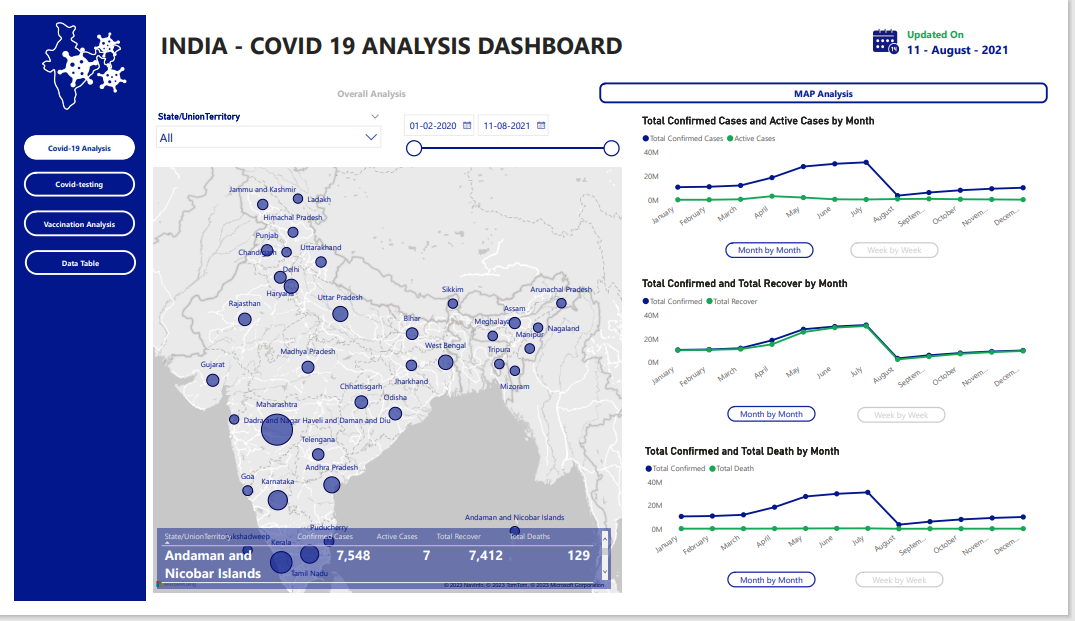

The dashboard page shown, as its layout file describes it:
{"tool":"powerbi","page":{"name":"CovidHomeDemo1","canvas":[1664,936],"ordinal":0},"visuals":[{"type":"shape","box":[0,0,211.1,936.5],"z":0},{"type":"image","box":[57.8,13.2,135.7,126],"z":0,"group":"g1"},{"type":"actionButton","title":"confim-Active","box":[1164.2,370,141.4,25.7],"z":0,"group":"g5"},{"type":"actionButton","title":"ConfirmW-active","box":[1364.3,370,141.4,25.7],"z":0,"group":"g4"},{"type":"actionButton","title":"Death-Active","box":[1171,634.3,141.4,25.7],"z":0,"group":"g2"},{"type":"actionButton","title":"DeathW-Inactive","box":[1371,634.3,141.4,25.7],"z":0,"group":"g7"},{"type":"actionButton","title":"Recovery-Active","box":[1181.1,896.6,141.4,25.7],"z":0,"group":"g3"},{"type":"actionButton","title":"RecoveryW-Inactive","box":[1381.2,896.6,141.4,25.7],"z":0,"group":"g6"},{"type":"image","box":[24.6,3.3,167.4,155.7],"z":1000,"group":"g1"},{"type":"shape","box":[218,0,1436.1,90.2],"z":4000},{"type":"shape","box":[217.1,135.7,825.7,335.7],"z":6000},{"type":"shape","box":[1055.7,135.7,598.6,271.4],"z":7000},{"type":"shape","box":[1056.2,415.6,598.4,251.6],"z":8000},{"type":"shape","box":[1057,675,597,255],"z":9000},{"type":"shape","box":[218,483,824,453],"z":10000},{"type":"actionButton","box":[15.9,192.1,177.8,39.7],"z":11000},{"type":"actionButton","box":[15.9,250.8,177.8,39.7],"z":12000},{"type":"actionButton","box":[15.9,312.7,177.8,41.3],"z":13000},{"type":"textbox","box":[229.5,11.5,882,67.2],"z":14000},{"type":"card","fields":{"Values":["calculation.TotalConfirmed_LastUpdate"]},"box":[242.2,164.1,243.8,104.7],"z":15000},{"type":"card","fields":{"Values":["calculation.ActiveCases*"]},"box":[527,168.3,215.9,103.2],"z":16000},{"type":"card","fields":{"Values":["calculation.TotalDeath_LatestDate_State"]},"box":[762.8,168.4,254.3,111.2],"z":17000},{"type":"card","fields":{"Values":["calculation.Mortality Rate*"]},"box":[503.2,331.7,254,103.2],"z":18000},{"type":"card","fields":{"Values":["calculation.TotalRecover_LastUpdate"]},"box":[237.7,332.8,254.1,104.9],"z":19000},{"type":"card","fields":{"Values":["calculation.Recovery Rate"]},"box":[762,331,254,104],"z":20000},{"type":"actionButton","title":"M-Inactive","box":[936.5,96.8,717.5,33.3],"z":20375},{"type":"actionButton","title":"O-Active","box":[219,96.8,706.3,33.3],"z":20500},{"type":"barChart","title":"Top 5 state with highest Deaths","fields":{"Category":["covid_19_india.State/UnionTerritory"],"Y":["Sum(covid_19_india.Deaths)"]},"box":[660.7,723,382,206.6],"z":21000},{"type":"barChart","title":"Top 5 state with highest Recovery","fields":{"Category":["covid_19_india.State/UnionTerritory"],"Y":["calculation.TotalRecover_LastUpdate"]},"box":[665.6,495.1,377,206.6],"z":22000},{"type":"barChart","title":"Top 5 state with highest Confirmed Cases","fields":{"Category":["covid_19_india.State/UnionTerritory"],"Y":["calculation.TotalConfirmed_LastUpdate"]},"box":[229,495,372,207],"z":23000},{"type":"clusteredBarChart","title":"Top 5 state with highest Active Cases","fields":{"Category":["covid_19_india.State/UnionTerritory"],"Y":["calculation.ActiveCases*"]},"box":[229,729,372,201],"z":24000},{"type":"areaChart","fields":{"Category":["covid_19_india.Date.Variation.Date Hierarchy.Year","covid_19_india.Date.Variation.Date Hierarchy.Month"],"Y":["calculation.TotalConfirmed_LastUpdate"]},"box":[1065.7,147.1,580,202.9],"z":25000},{"type":"areaChart","fields":{"Category":["covid_19_india.Date.Variation.Date Hierarchy.Year","covid_19_india.Date.Variation.Date Hierarchy.Month"],"Y":["calculation.TotalRecover_LastUpdate"]},"box":[1069.5,686.5,576.9,206.6],"z":26000},{"type":"areaChart","fields":{"Category":["covid_19_india.Date.Variation.Date Hierarchy.Year","covid_19_india.Date.Variation.Date Hierarchy.Month"],"Y":["calculation.TotalDeath_LatestDate_State"]},"box":[1068.8,426.6,578.1,196.9],"z":27000},{"type":"actionButton","box":[17.5,376.2,177.8,39.7],"z":31000},{"type":"shape","box":[217.5,136.5,12.7,336.5],"z":32000},{"type":"shape","box":[457.1,155.6,93.7,300],"z":33000},{"type":"shape","box":[715.9,152.4,93.7,300],"z":34000},{"type":"shape","box":[572.1,511.5,93.4,183.6],"z":35000},{"type":"shape","box":[570.5,739.3,93.4,183.6],"z":36000},{"type":"image","box":[1377,14.8,50.8,57.4],"z":37000},{"type":"group","id":"g1","title":"Group 1","box":[24.6,3.3,167.2,155.7],"z":38000},{"type":"group","id":"g2","title":"Caovidbtn-deatn","box":[1171,634.1,141.6,25.9],"z":40000},{"type":"group","id":"g3","title":"recoverBtn-Active","box":[1180.7,896.3,141.8,26],"z":41000},{"type":"group","id":"g4","title":"ComfirmbtnW-Active","box":[1363.5,370,142.2,25.7],"z":42000},{"type":"group","id":"g5","title":"covidActive-confirmed","box":[1162.2,370,143.5,25.7],"z":43000},{"type":"group","id":"g6","title":"RecoveryBtnW","box":[1381,896.3,141.6,26],"z":44000},{"type":"group","id":"g7","title":"DeathbtnW-Active","box":[1371,633.3,142.3,26.7],"z":45000},{"type":"textbox","box":[1423.8,11.1,144.4,39.7],"z":45001},{"type":"textbox","box":[1407.9,34.9,215.9,36.5],"z":45002}]}

Visuals, with their boxes on the page's 1664x936 design canvas (x1, y1, x2, y2). These are canvas units, not pixel positions in the 1075x621 screenshot, which may show the page scaled, cropped or inside an application window:
shape: <box>0,0,211,936</box>
image: <box>58,13,194,139</box>
"confim-Active" actionButton: <box>1164,370,1306,396</box>
"ConfirmW-active" actionButton: <box>1364,370,1506,396</box>
"Death-Active" actionButton: <box>1171,634,1312,660</box>
"DeathW-Inactive" actionButton: <box>1371,634,1512,660</box>
"Recovery-Active" actionButton: <box>1181,897,1322,922</box>
"RecoveryW-Inactive" actionButton: <box>1381,897,1523,922</box>
image: <box>25,3,192,159</box>
shape: <box>218,0,1654,90</box>
shape: <box>217,136,1043,471</box>
shape: <box>1056,136,1654,407</box>
shape: <box>1056,416,1655,667</box>
shape: <box>1057,675,1654,930</box>
shape: <box>218,483,1042,936</box>
actionButton: <box>16,192,194,232</box>
actionButton: <box>16,251,194,290</box>
actionButton: <box>16,313,194,354</box>
textbox: <box>230,12,1112,79</box>
card - calculation.TotalConfirmed_LastUpdate: <box>242,164,486,269</box>
card - calculation.ActiveCases*: <box>527,168,743,272</box>
card - calculation.TotalDeath_LatestDate_State: <box>763,168,1017,280</box>
card - calculation.Mortality Rate*: <box>503,332,757,435</box>
card - calculation.TotalRecover_LastUpdate: <box>238,333,492,438</box>
card - calculation.Recovery Rate: <box>762,331,1016,435</box>
"M-Inactive" actionButton: <box>936,97,1654,130</box>
"O-Active" actionButton: <box>219,97,925,130</box>
"Top 5 state with highest Deaths" barChart: <box>661,723,1043,930</box>
"Top 5 state with highest Recovery" barChart: <box>666,495,1043,702</box>
"Top 5 state with highest Confirmed Cases" barChart: <box>229,495,601,702</box>
"Top 5 state with highest Active Cases" clusteredBarChart: <box>229,729,601,930</box>
areaChart - covid_19_india.Date.Variation.Date Hierarchy.Year x covid_19_india.Date.Variation.Date Hierarchy.Month: <box>1066,147,1646,350</box>
areaChart - covid_19_india.Date.Variation.Date Hierarchy.Year x covid_19_india.Date.Variation.Date Hierarchy.Month: <box>1070,686,1646,893</box>
areaChart - covid_19_india.Date.Variation.Date Hierarchy.Year x covid_19_india.Date.Variation.Date Hierarchy.Month: <box>1069,427,1647,624</box>
actionButton: <box>18,376,195,416</box>
shape: <box>218,136,230,473</box>
shape: <box>457,156,551,456</box>
shape: <box>716,152,810,452</box>
shape: <box>572,512,666,695</box>
shape: <box>570,739,664,923</box>
image: <box>1377,15,1428,72</box>
"Group 1" group: <box>25,3,192,159</box>
"Caovidbtn-deatn" group: <box>1171,634,1313,660</box>
"recoverBtn-Active" group: <box>1181,896,1322,922</box>
"ComfirmbtnW-Active" group: <box>1364,370,1506,396</box>
"covidActive-confirmed" group: <box>1162,370,1306,396</box>
"RecoveryBtnW" group: <box>1381,896,1523,922</box>
"DeathbtnW-Active" group: <box>1371,633,1513,660</box>
textbox: <box>1424,11,1568,51</box>
textbox: <box>1408,35,1624,71</box>
